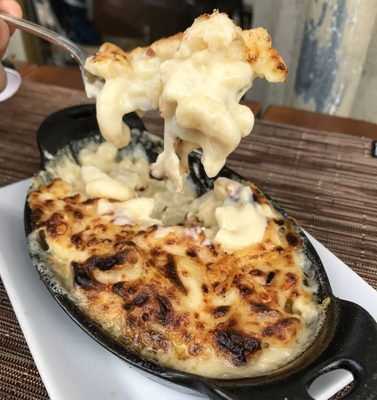curry: (0, 103, 376, 398)
sandwich: (16, 34, 376, 392), (24, 127, 346, 381)
